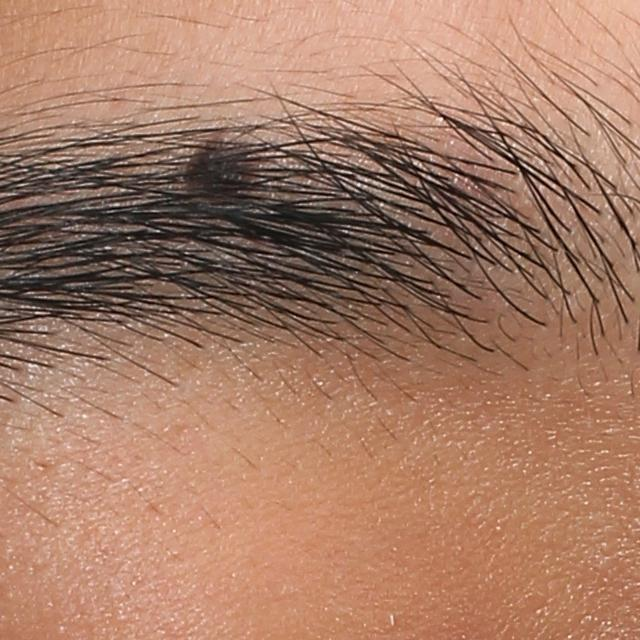nevus: (171, 130, 274, 199)
